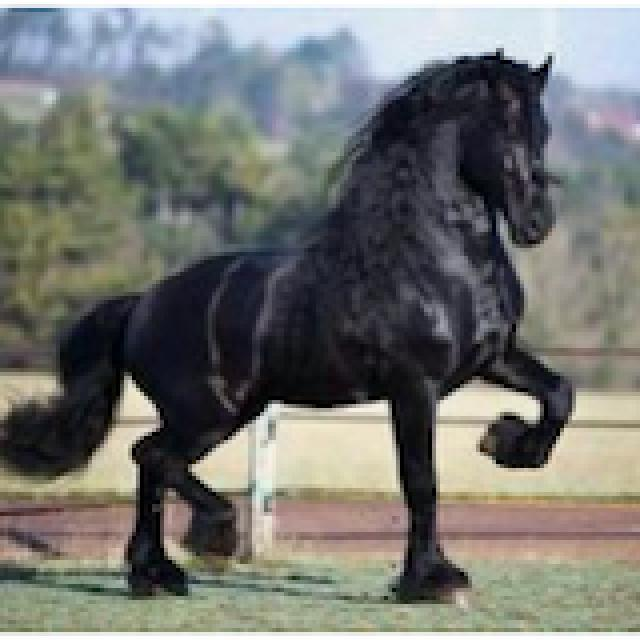Horse: (0, 44, 580, 608)
